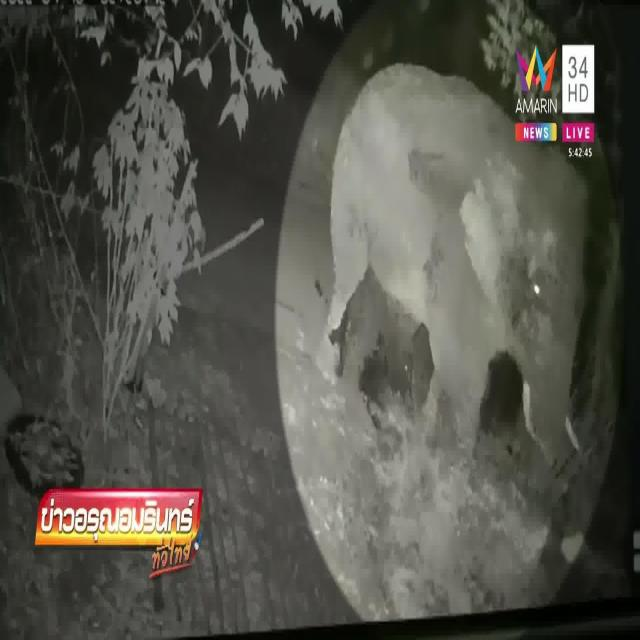Elephant: (366, 96, 569, 428)
